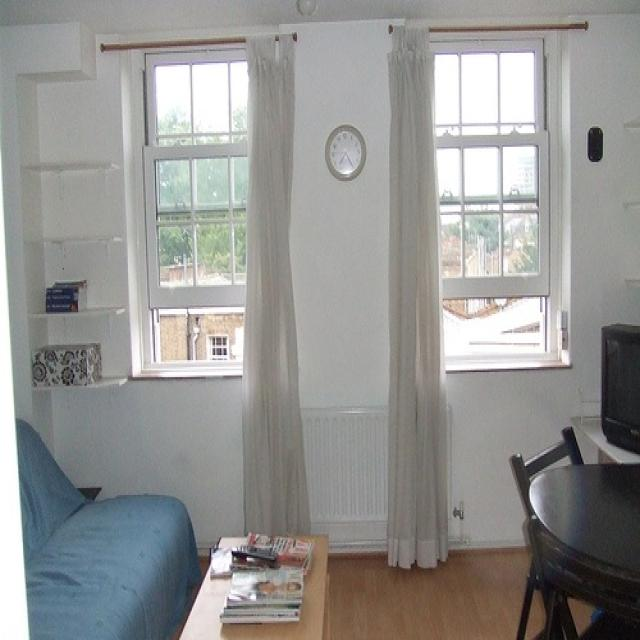chair: (527, 520, 640, 639), (511, 426, 589, 518)
diningtable: (531, 464, 640, 640)
sofa: (1, 418, 202, 640)
tvmonitor: (604, 322, 640, 455)
